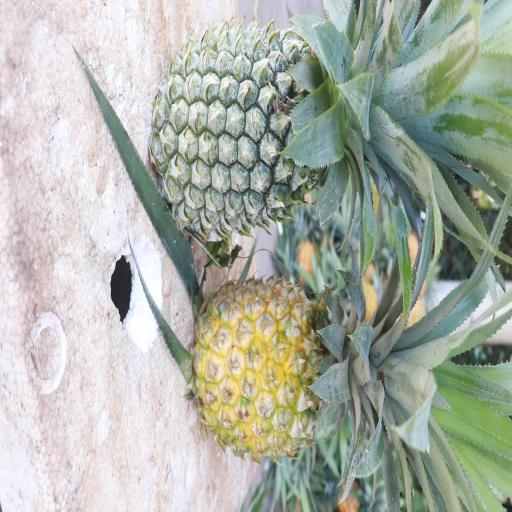Pineapple - v8 v1: (204, 274, 491, 478)
